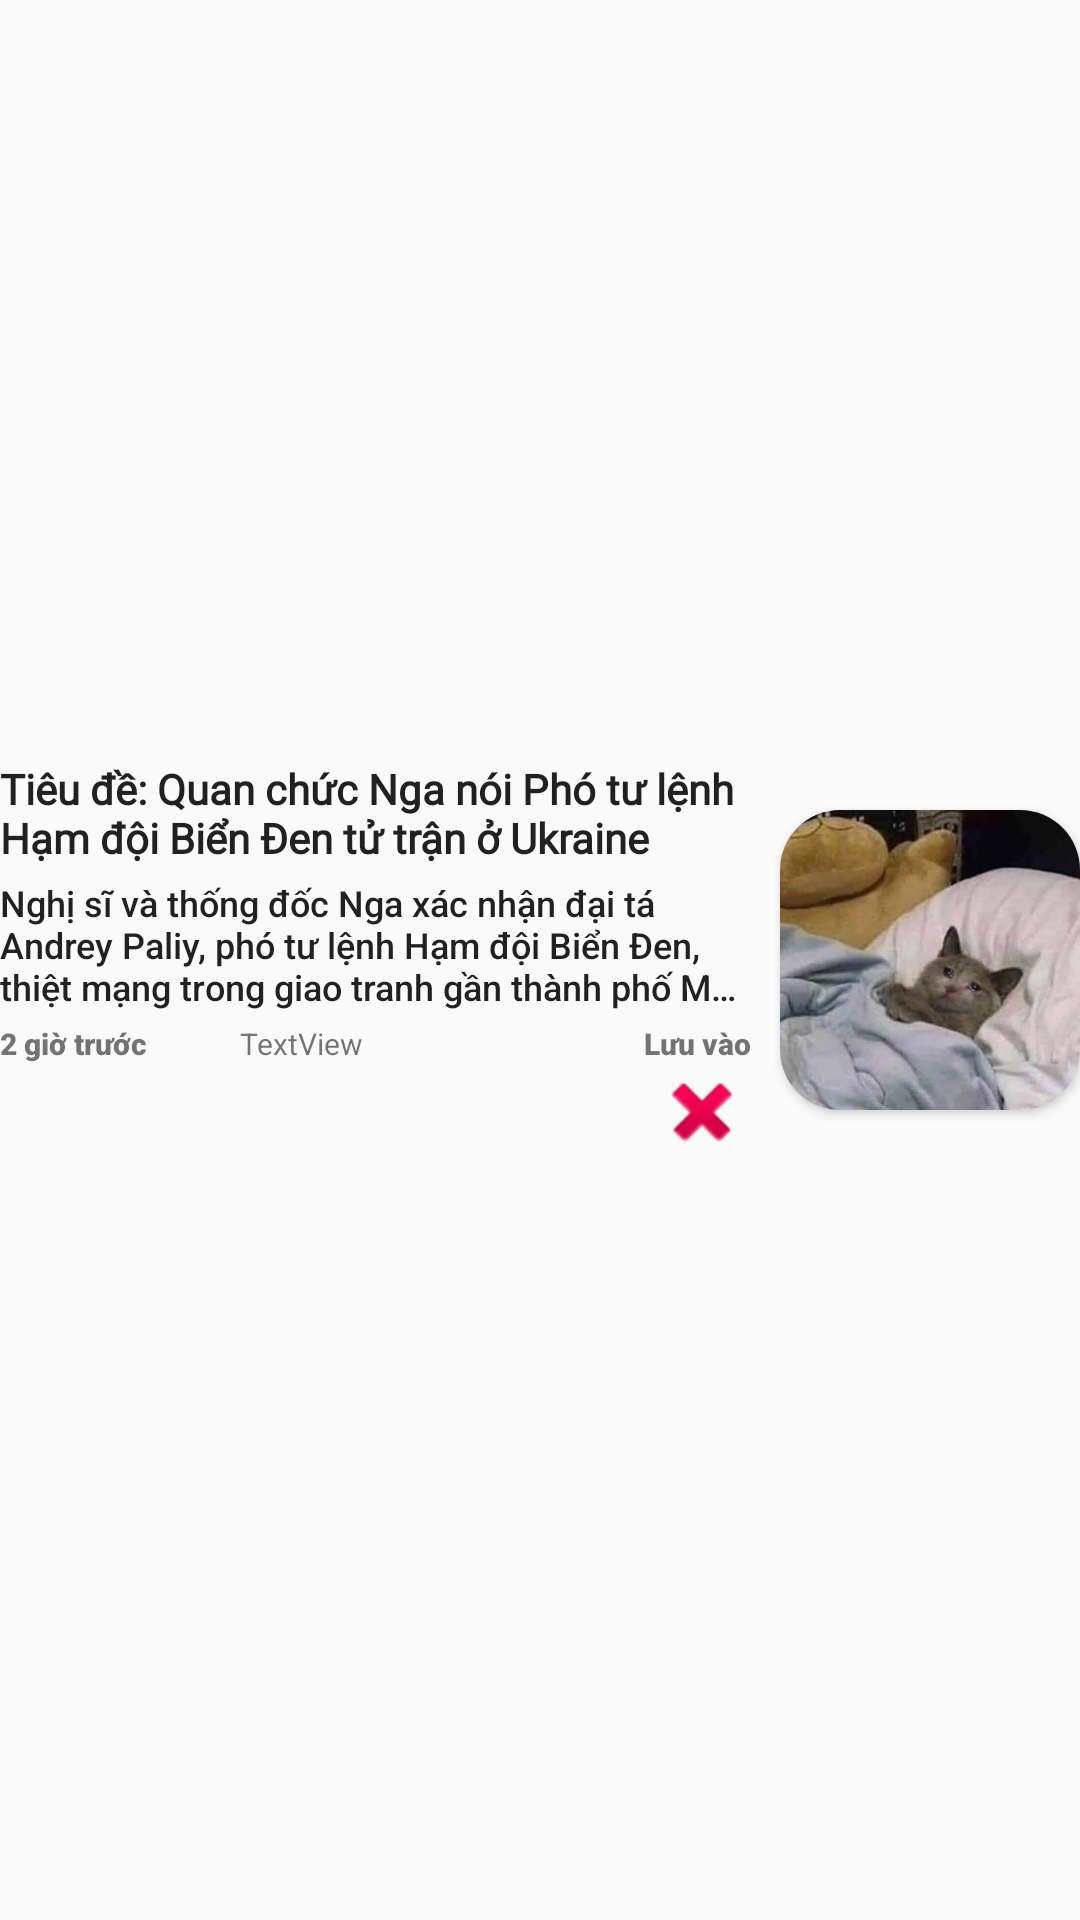

Point at icon controls on the screen. Image size 1080px×1920px, points as [x,y].
cat: [930,960]
delete: [702,1112]
